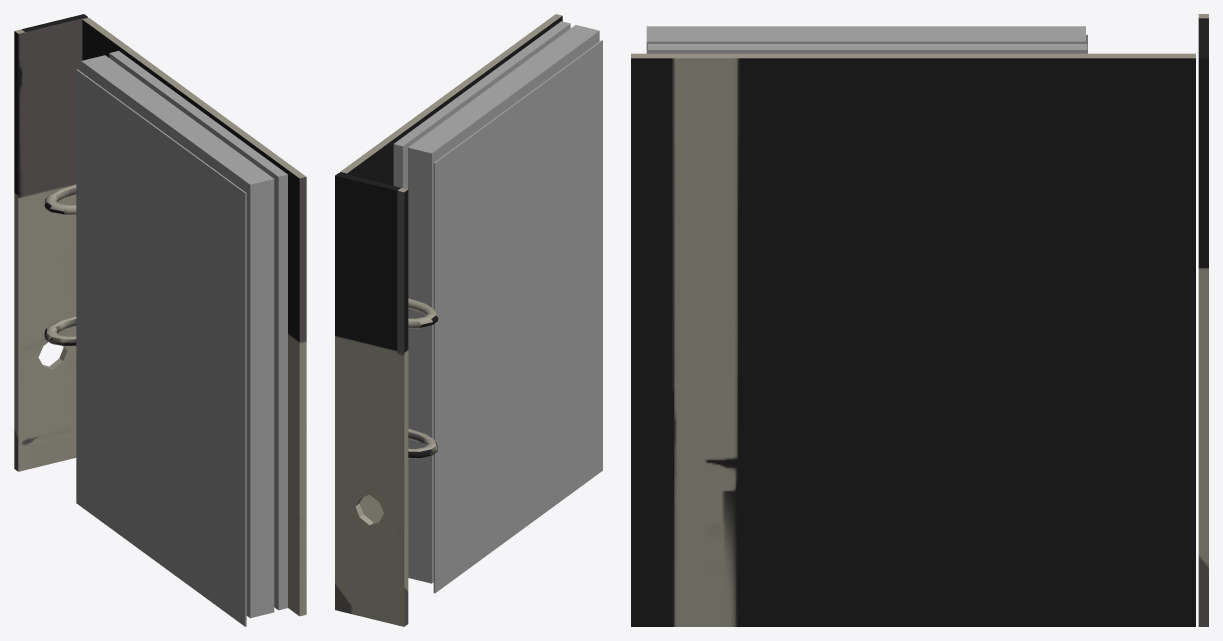
Rendered from AktenordnerPart1.fbx.
The picture shows the model from 3 angles, left to right: view 1: azimuth 30°, elevation 25°; view 2: azimuth 150°, elevation 25°; view 3: azimuth 270°, elevation 25°; orthographic projection. The views are drawn at different scales.
Parts seen in each view (by area): view 1: paper 1, back, paper o2, base, paper 03; view 2: paper 1, back, paper o2, base, paper 03; view 3: base, paper o2, back, paper 03.
Part boxes in pixels (bbox=[...]): paper 1: bbox=[76, 69, 246, 626]; back: bbox=[14, 14, 87, 471]; paper o2: bbox=[81, 55, 274, 618]; base: bbox=[44, 18, 306, 616]; paper 03: bbox=[109, 51, 287, 610]; paper 1: bbox=[433, 40, 602, 593]; back: bbox=[335, 172, 408, 626]; paper o2: bbox=[408, 25, 599, 583]; base: bbox=[340, 14, 562, 522]; paper 03: bbox=[393, 21, 570, 189]; base: bbox=[631, 53, 1195, 626]; paper o2: bbox=[646, 26, 1085, 53]; back: bbox=[1198, 14, 1208, 626]; paper 03: bbox=[648, 44, 1087, 53].
Size of the model in its own units: 5 by 30.3 by 27.63.
